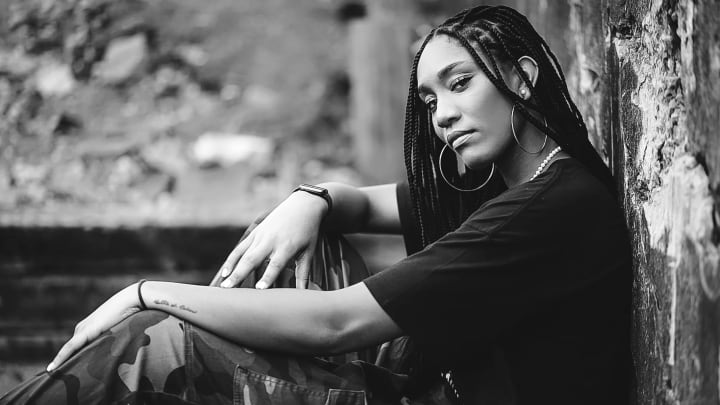GIRL: (412, 25, 545, 173)
